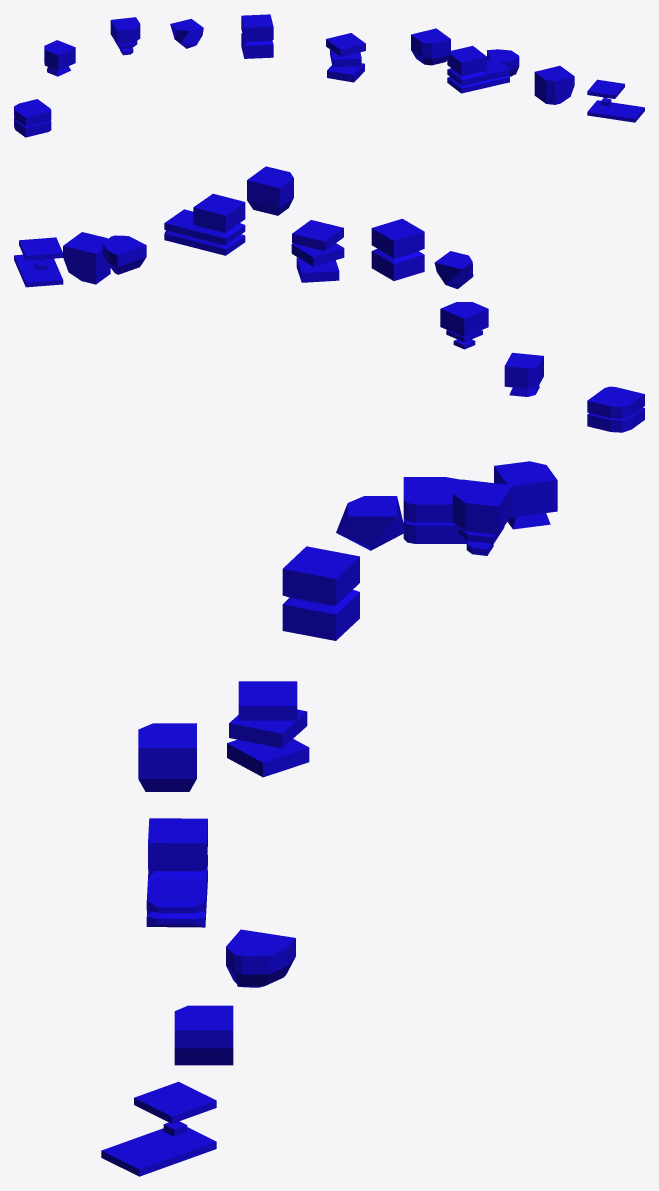
File: magic_road.fbx
3 renders of one model, top to bottom at view 1: azimuth 30°, elevation 25°; view 2: azimuth 150°, elevation 25°; view 3: azimuth 270°, elevation 25°, orthographic. The views are drawn at different scales.
Visible parts, largest first — view 1: strada_vulcano; view 2: strada_vulcano; view 3: strada_vulcano.
Part boxes in pixels (left/top/right/bottom): strada_vulcano: left=14, top=14, right=644, bottom=137; strada_vulcano: left=14, top=166, right=644, bottom=432; strada_vulcano: left=101, top=461, right=557, bottom=1176.
Size of the model in its own units: 2464 by 596 by 880.
